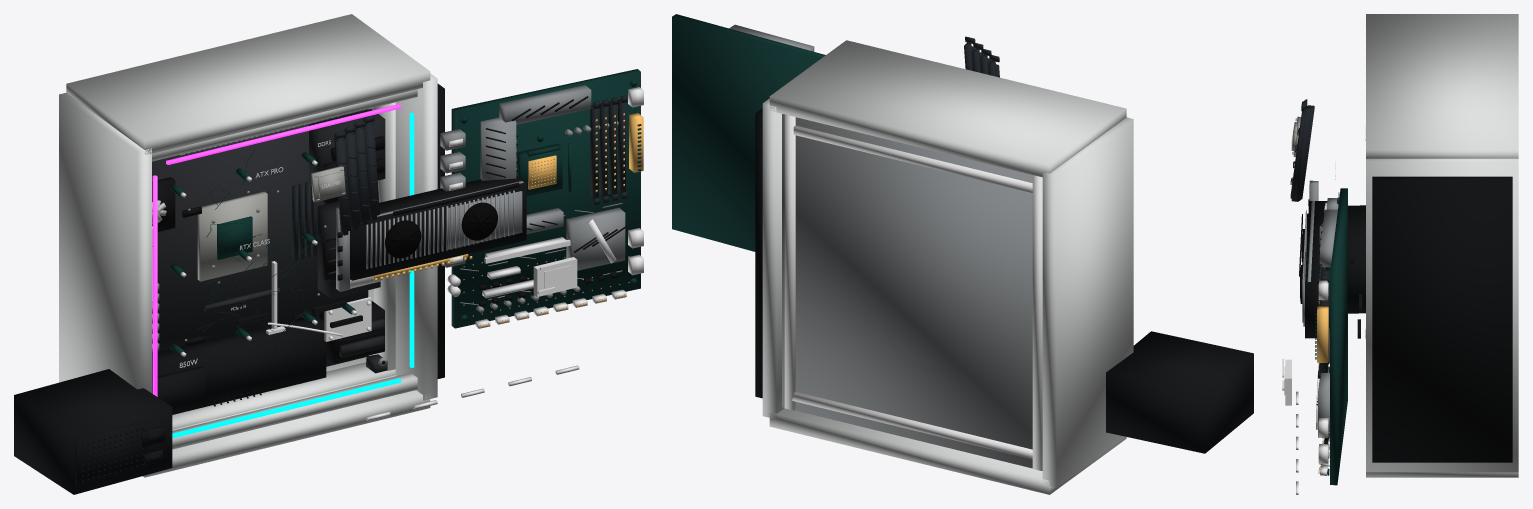
The model's file is pc_assembly_complete_static.glb.
3 views of the same model, side by side, from view 1: azimuth 30°, elevation 25°; view 2: azimuth 150°, elevation 25°; view 3: azimuth 270°, elevation 25° (orthographic). The views are drawn at different scales.
Visible parts, largest first — view 1: Profundidad_Case_techo_3D, Profundidad_Case_pared_izquierda_3D, gabinete_panel_trasero_interior_grafito, motherboard_PCB_ATX_negra, Componente_PSU_cuerpo_ATX_150x140x86mm, cubierta_fuente_poder_gris, Profundidad_Case_pared_derecha_3D, Componente_GPU_shroud_principal, Profundidad_Case_base_3D, recorte_cpu_panel_trasero, Profundidad_Case_labio_frontal_inferior, gabinete_marco_inferior_blanco (+34 smaller); view 2: Profundidad_Case_backplate_real, Profundidad_Case_pared_izquierda_3D, Profundidad_Case_techo_3D, motherboard_PCB_ATX_negra, Componente_PSU_cuerpo_ATX_150x140x86mm, Profundidad_Case_base_3D, Profundidad_Case_pared_derecha_3D, Profundidad_Case_columna_trasera_-1.3, Profundidad_Case_columna_trasera_-5.2, Profundidad_Case_travesano_trasero_0.0, Profundidad_Case_travesano_trasero_4.1, Profundidad_Case_frontal_malla_extruida; view 3: Profundidad_Case_frontal_malla_extruida, Profundidad_Case_techo_3D, Profundidad_Case_pared_derecha_3D, motherboard_PCB_ATX_negra, Componente_PSU_cuerpo_ATX_150x140x86mm, Componente_GPU_shroud_principal, Profundidad_Case_base_3D, disipador_superior_IO_cepillado, conector_ATX_24_pines, disipador_chipset_grande_inferior_derecho, Componente_RAM_4_PCB_DIMM_133_35mm, Componente_RAM_4_disipador_frontal (+2 smaller).
Part boxes in pixels (x1,y1,x2,y2): Profundidad_Case_techo_3D: (66,14,430,154); Profundidad_Case_pared_izquierda_3D: (59,93,151,393); gabinete_panel_trasero_interior_grafito: (152,109,368,366); motherboard_PCB_ATX_negra: (451,69,640,328); Componente_PSU_cuerpo_ATX_150x140x86mm: (14,369,172,494); cubierta_fuente_poder_gris: (152,314,326,414); Profundidad_Case_pared_derecha_3D: (368,73,437,400); Componente_GPU_shroud_principal: (350,175,526,280); Profundidad_Case_base_3D: (142,355,430,477); recorte_cpu_panel_trasero: (197,191,267,281); Profundidad_Case_labio_frontal_inferior: (172,373,417,449); gabinete_marco_inferior_blanco: (172,362,395,429); Profundidad_Case_backplate_real: (782,114,1042,470); Profundidad_Case_pared_izquierda_3D: (1042,117,1133,487); Profundidad_Case_techo_3D: (769,40,1126,177); motherboard_PCB_ATX_negra: (672,14,825,251); Componente_PSU_cuerpo_ATX_150x140x86mm: (1106,331,1253,453); Profundidad_Case_base_3D: (769,408,1126,494); Profundidad_Case_pared_derecha_3D: (762,98,784,419); Profundidad_Case_columna_trasera_-1.3: (784,114,795,410); Profundidad_Case_columna_trasera_-5.2: (1032,175,1042,470); Profundidad_Case_travesano_trasero_0.0: (792,392,1033,459); Profundidad_Case_travesano_trasero_4.1: (793,125,1032,192); Profundidad_Case_frontal_malla_extruida: (755,108,762,398); Profundidad_Case_frontal_malla_extruida: (1372,176,1512,462); Profundidad_Case_techo_3D: (1366,14,1518,158); Profundidad_Case_pared_derecha_3D: (1366,158,1518,472); motherboard_PCB_ATX_negra: (1330,188,1347,485); Componente_PSU_cuerpo_ATX_150x140x86mm: (1348,205,1365,313); Componente_GPU_shroud_principal: (1305,201,1329,338); Profundidad_Case_base_3D: (1366,472,1518,477); disipador_superior_IO_cepillado: (1320,209,1337,267); conector_ATX_24_pines: (1317,306,1328,362); disipador_chipset_grande_inferior_derecho: (1318,367,1329,437); Componente_RAM_4_PCB_DIMM_133_35mm: (1291,107,1310,201); Componente_RAM_4_disipador_frontal: (1290,110,1304,198).
Bounding box in the file's own units: 10.48 × 5.8 × 3.78.
